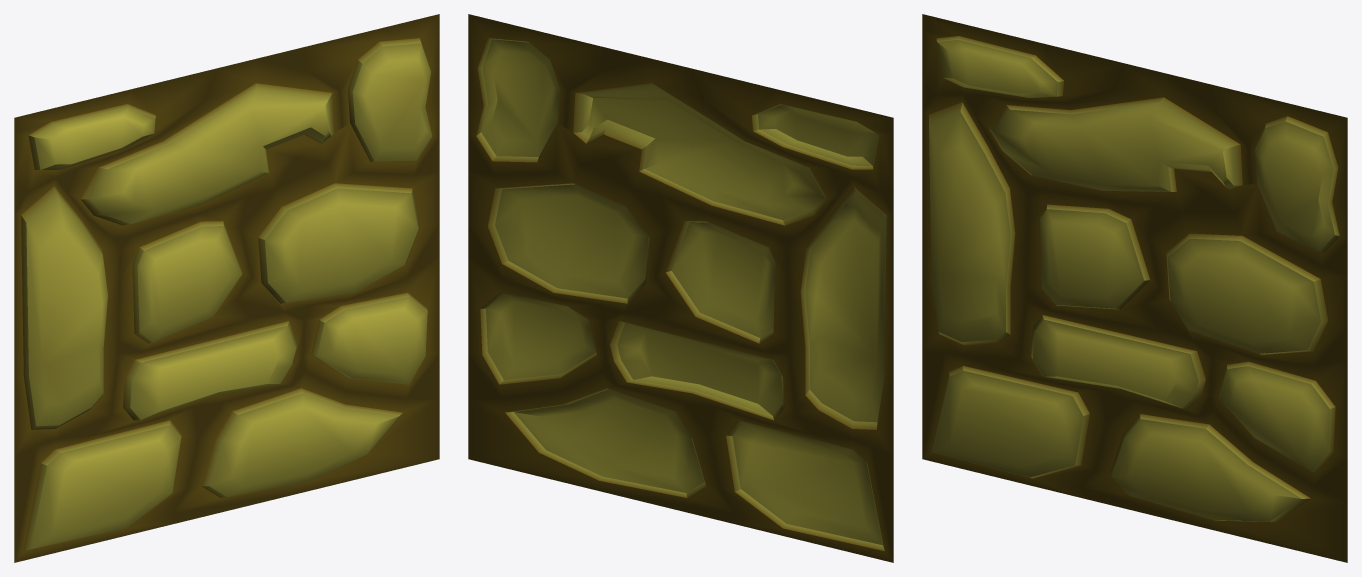
Rendered from FoundationWall1.fbx.
3 views of the same model, side by side, from view 1: azimuth 30°, elevation 25°; view 2: azimuth 150°, elevation 25°; view 3: azimuth 330°, elevation 25° (orthographic).
Parts seen in each view (by area): view 1: FoundationWall1; view 2: FoundationWall1; view 3: FoundationWall1.
Part boxes in pixels (left/top/right/bottom): FoundationWall1: left=14, top=14, right=439, bottom=562; FoundationWall1: left=468, top=14, right=893, bottom=562; FoundationWall1: left=922, top=14, right=1347, bottom=562.
Size of the model in its own units: 200 by 200 by 4.3.
